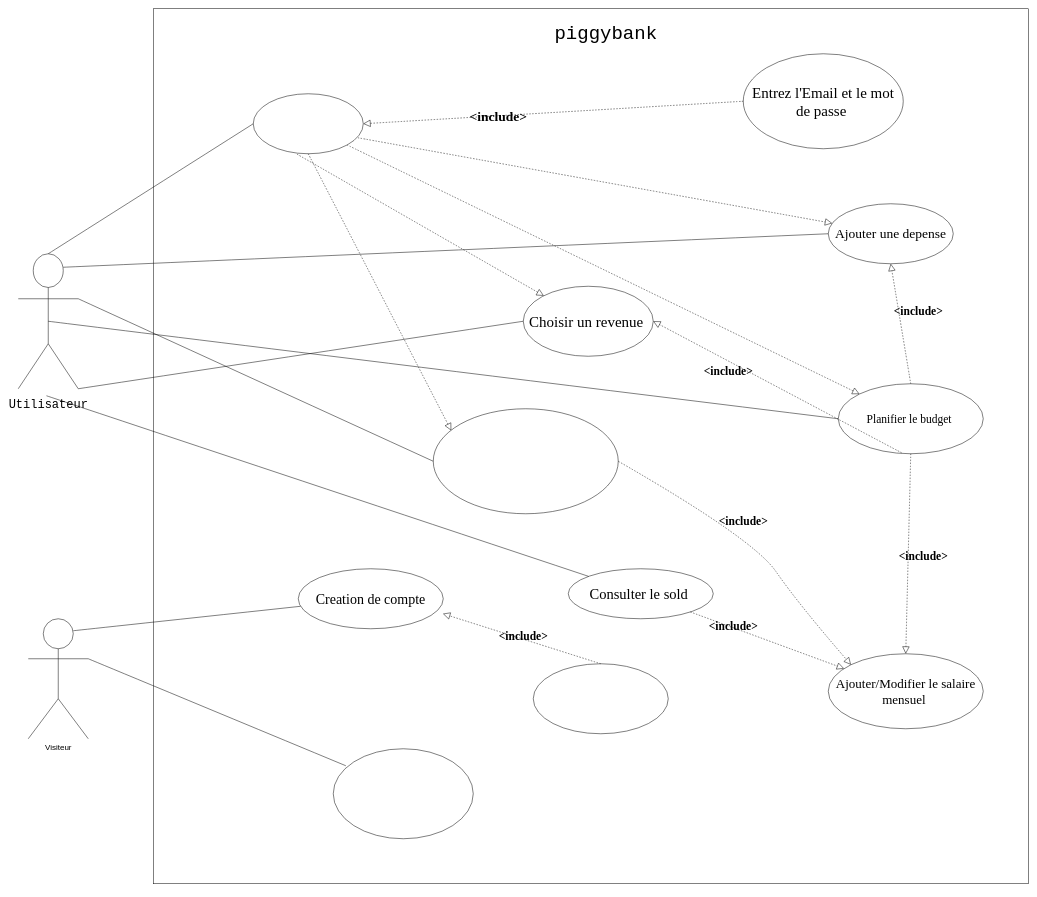
Image size: 1037x897. Some labels were removed from this diagram. Each missing label, with the centre of its shape:
Expliquation de l'application: [403,793]
Recevoir des Alertes de Dépassement de Budget: [525,461]
Remplire le formulaire d'inscription: [600,698]
s'authentifier: [308,123]
